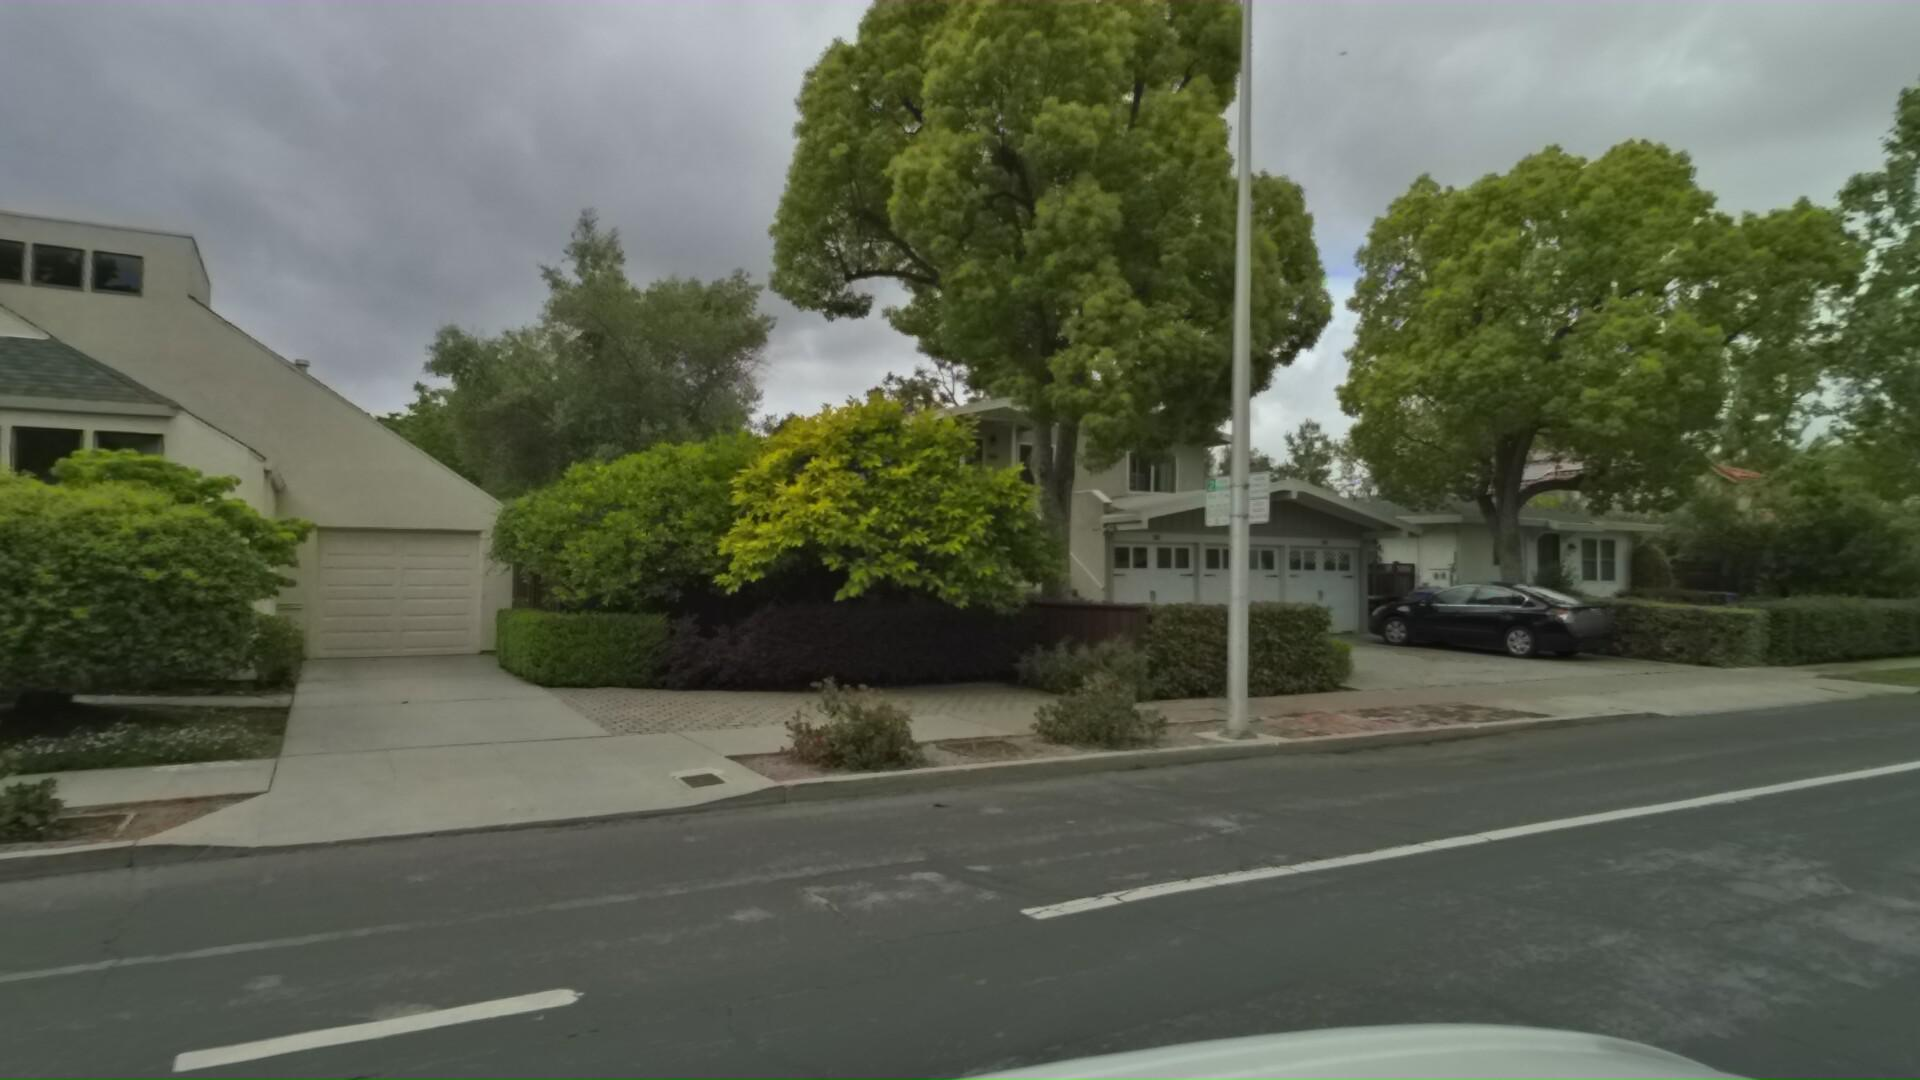car: (1350, 574, 1613, 661)
